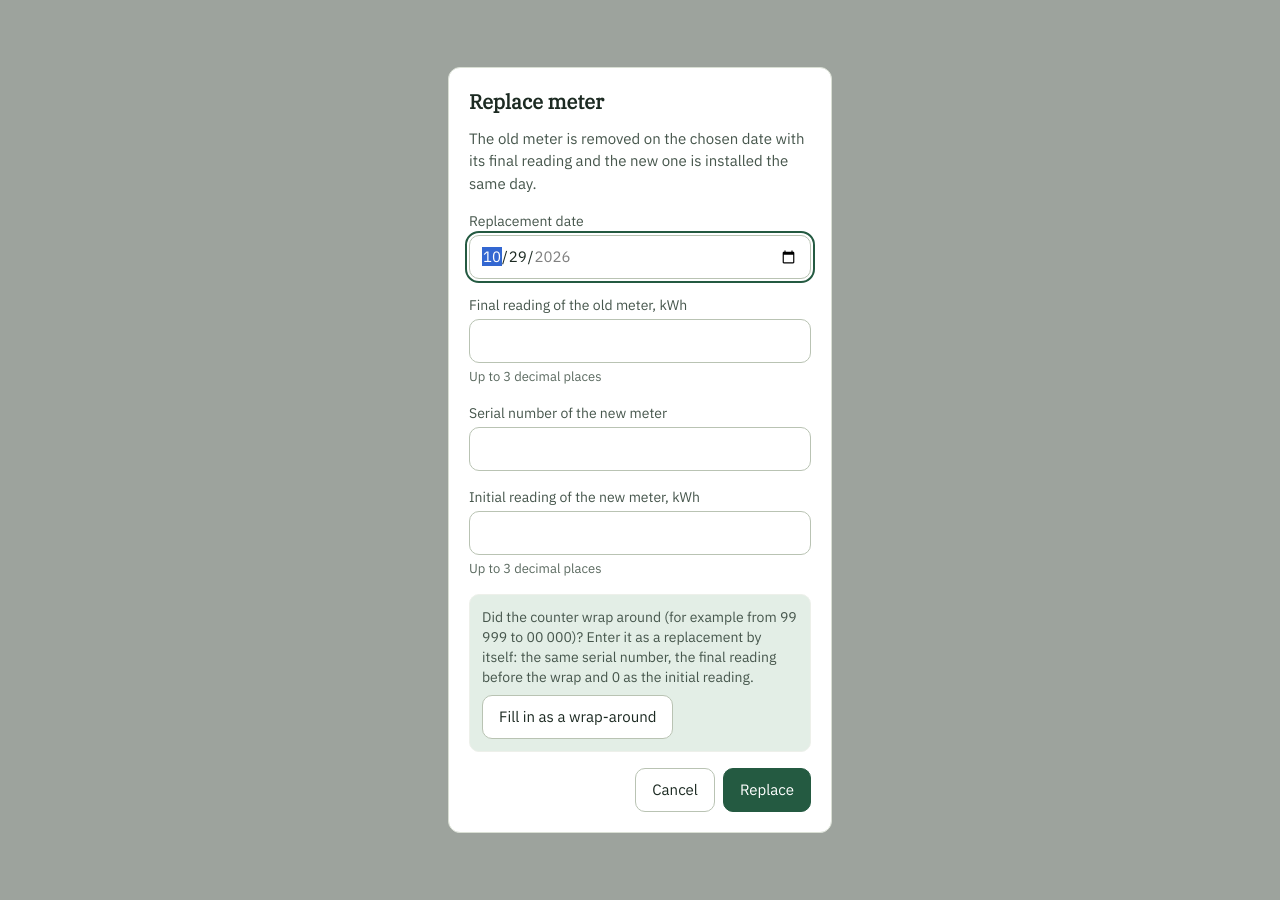
Test: ReplaceMeterDialog › requires a serial number and valid readings before sending
Click the button "Replace".
click(767, 790)  # box [723,768,811,812]
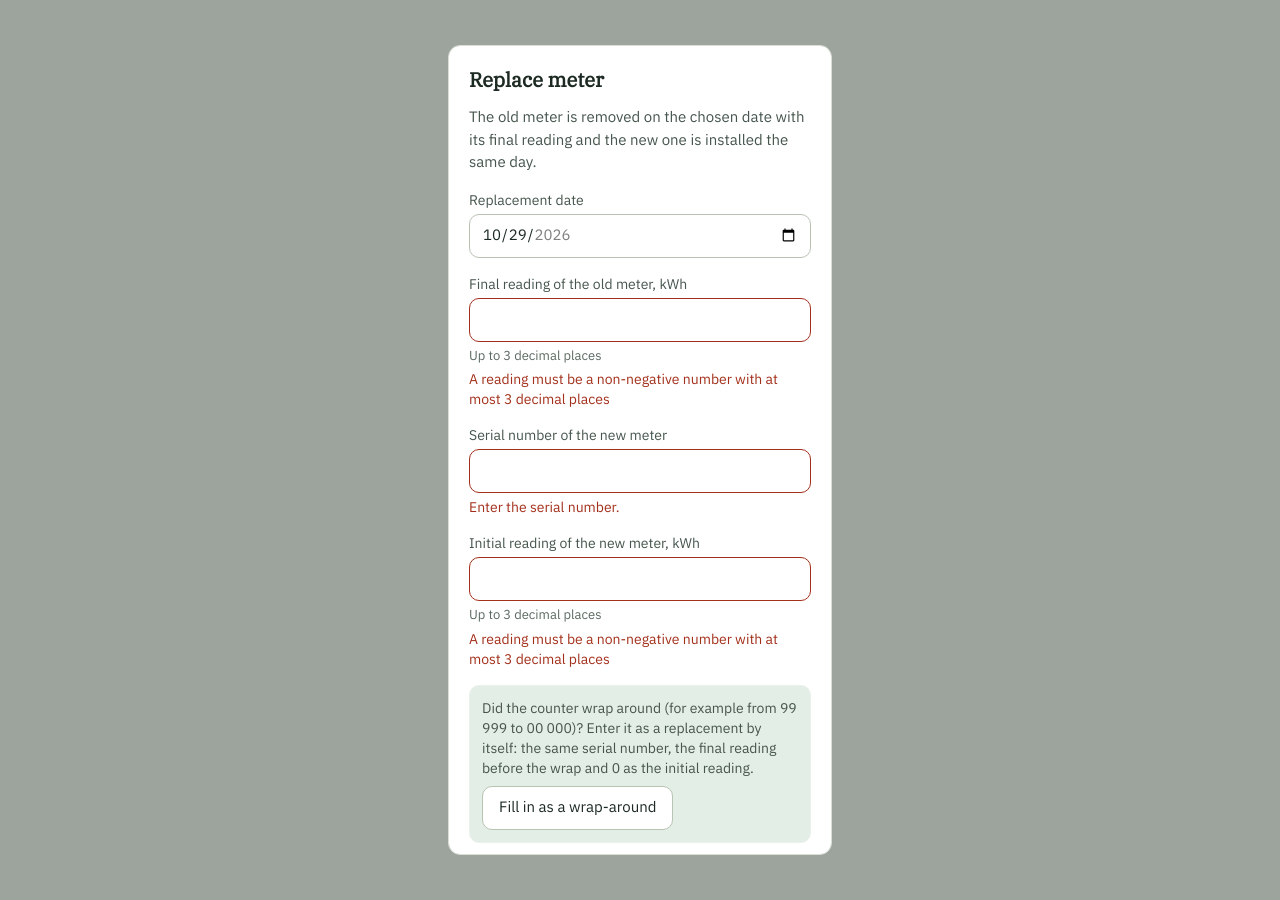
Expected: the text "Enter the serial number." is shown, [469,498,620,516]
